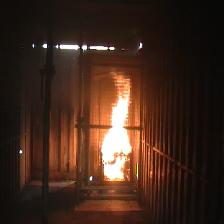fire: (101, 69, 132, 181)
